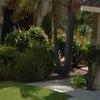Palm tree: (54, 3, 92, 70)
